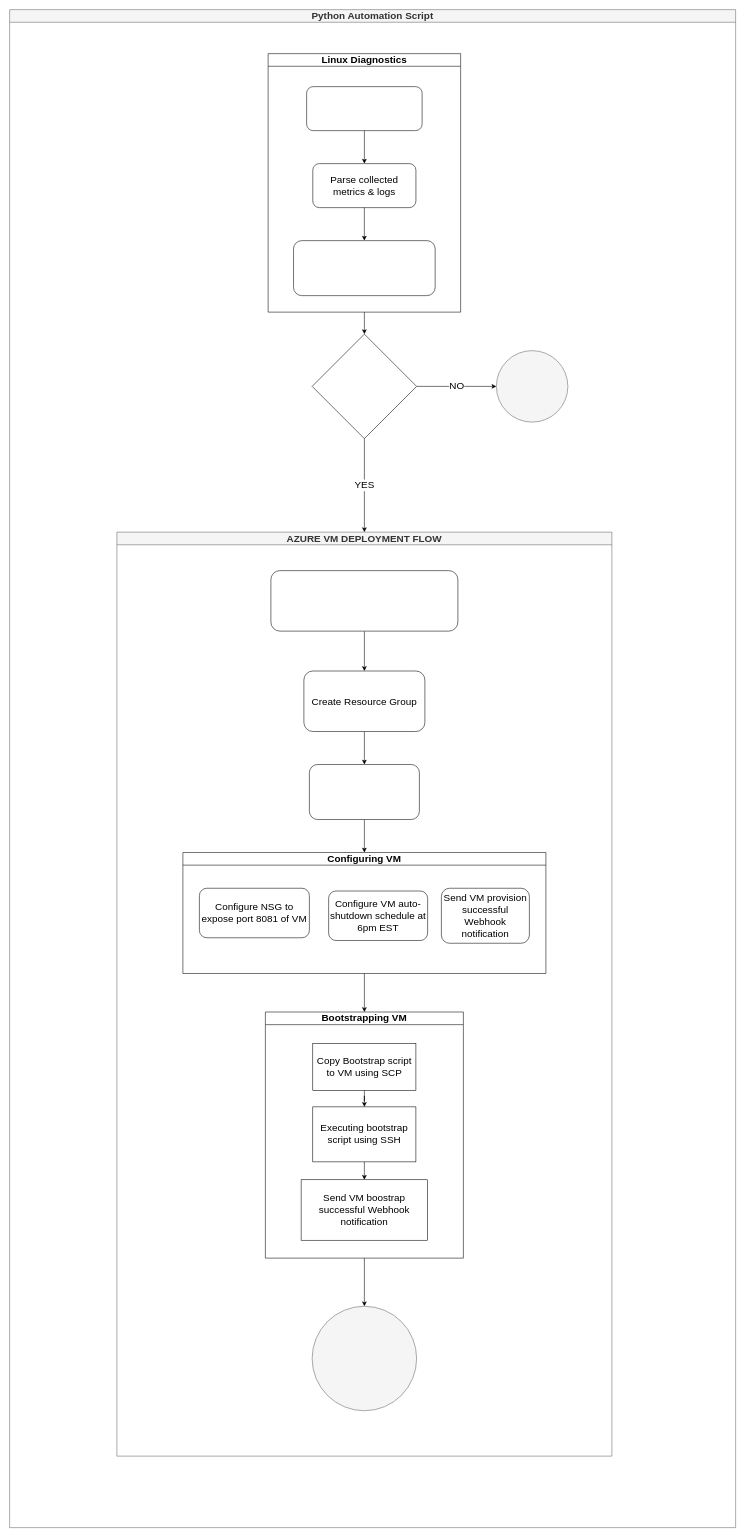
The diagram is 745 pixels wide and 1537 high, and some of its shapes have lost their labels. Here are the shapes that lost their labels. From the top down, the centre of each, then its label:
At [364,108]: "Execute native linux commands to collect metrics".
At [364,268]: "Analyze metrics & logs to generate a summary report".
At [364,386]: "Deploy to Azure?".
At [532,386]: "Save report to local file".
At [364,600]: "Authenticate the automation script using Service Principal".
At [364,792]: "Create VM if not exists".
At [364,1358]: "Prompt user for deallocate/teardown".
